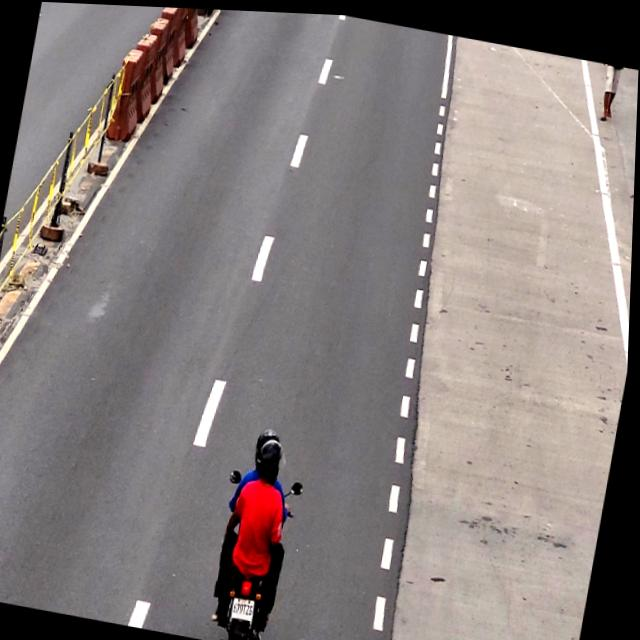License-Plate: (234, 593, 262, 622)
Motorcycle: (208, 423, 311, 640)
